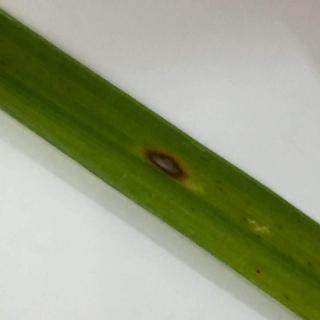Blast: (132, 134, 200, 198)
